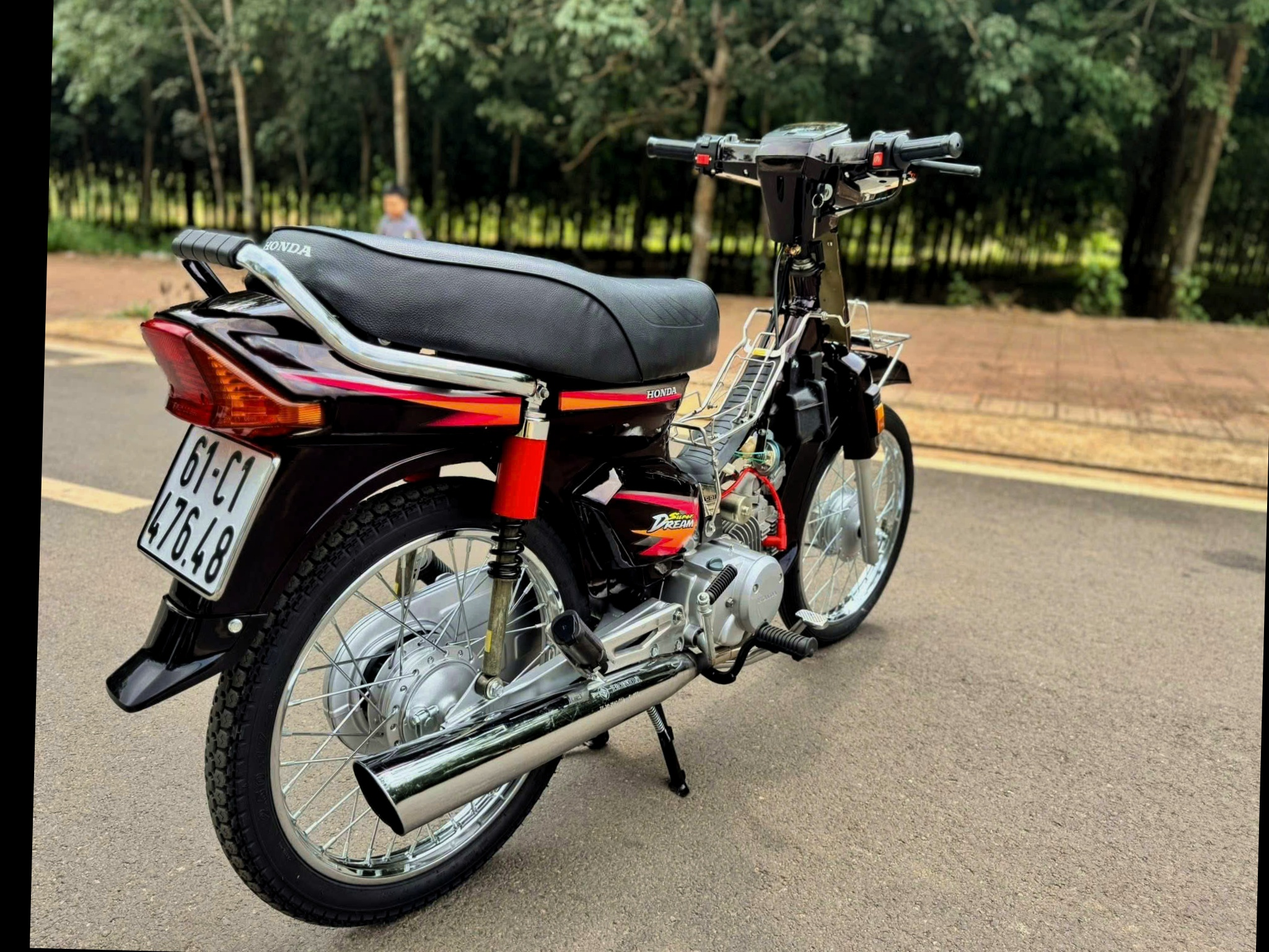Bien-so: (126, 471, 280, 637)
